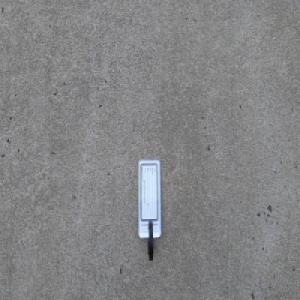LuggageTag: (136, 158, 161, 263)
